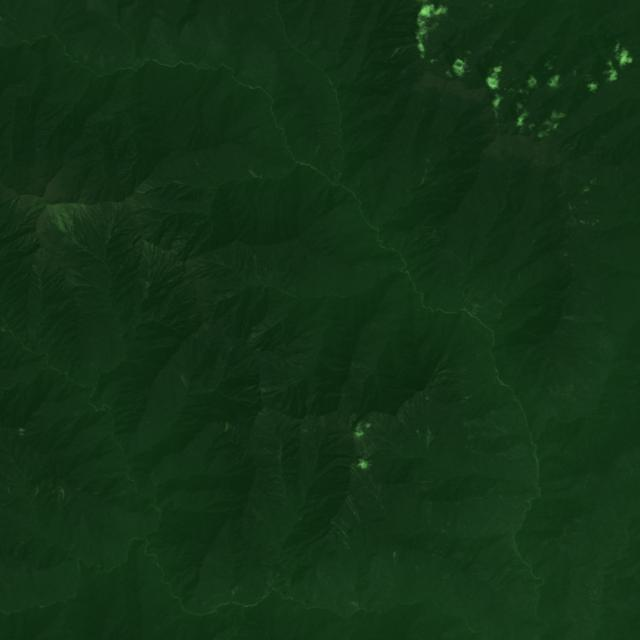landslides: (561, 315, 607, 325), (349, 360, 376, 371), (252, 511, 271, 525), (104, 550, 118, 566), (375, 436, 397, 446), (426, 426, 433, 455), (419, 12, 432, 25), (573, 173, 588, 183), (348, 413, 357, 429), (393, 550, 398, 577), (256, 339, 267, 351), (180, 373, 188, 389), (254, 335, 265, 346), (388, 47, 398, 59), (402, 43, 414, 53), (417, 21, 431, 29), (417, 25, 431, 33), (457, 367, 472, 374), (479, 46, 492, 54), (569, 139, 579, 149)
